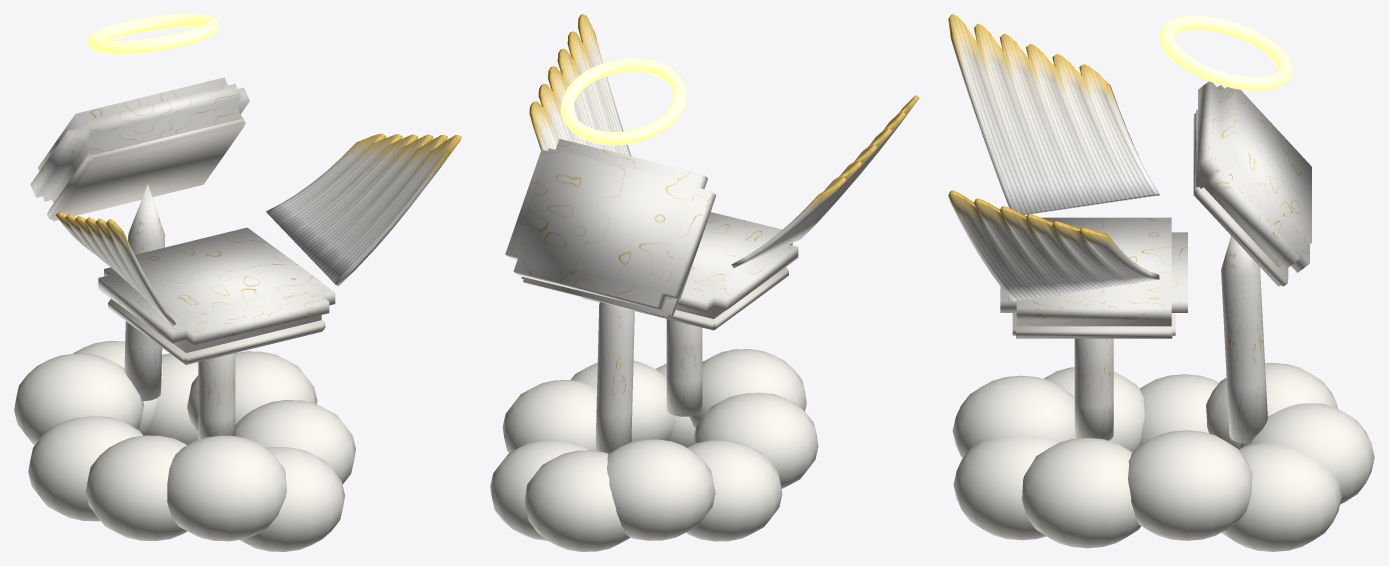
The model's file is AngelicBench.glb.
3 renders of one model, left to right at view 1: azimuth 30°, elevation 25°; view 2: azimuth 150°, elevation 25°; view 3: azimuth 270°, elevation 25°, orthographic. The views are drawn at different scales.
Parts seen in each view (by area): view 1: AngelicBench, AngelicBench_Glow; view 2: AngelicBench, AngelicBench_Glow; view 3: AngelicBench, AngelicBench_Glow.
Part boxes in pixels (x1,y1,x2,y2): AngelicBench: (14,77,461,551); AngelicBench_Glow: (87,14,219,54); AngelicBench: (490,14,919,551); AngelicBench_Glow: (560,58,686,145); AngelicBench: (948,14,1374,551); AngelicBench_Glow: (1159,15,1292,91).
Bounding box in the file's own units: 2.61 × 3.29 × 2.61.
Materials: 2 (1 with a texture image).
